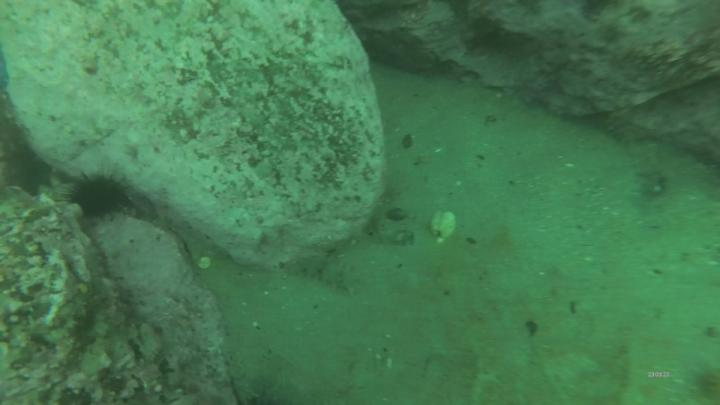echinus: (69, 178, 126, 212)
holothurian: (291, 256, 361, 295)
scallop: (433, 211, 457, 243)
